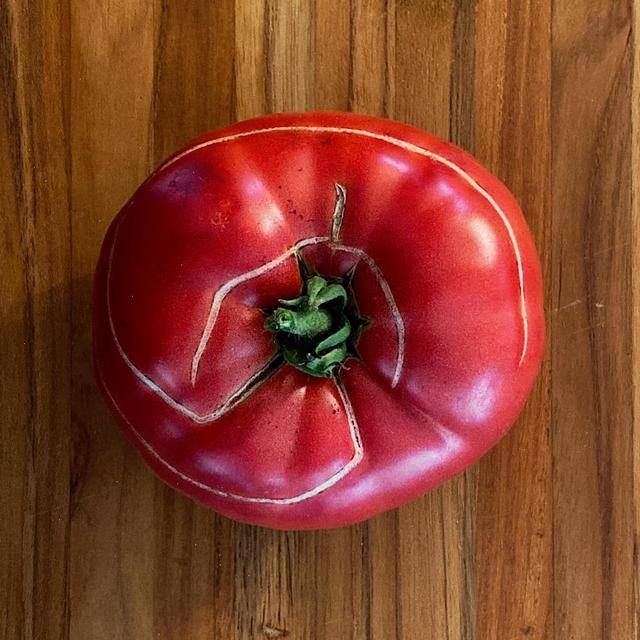Cracking Fruit: (156, 143, 274, 244)
